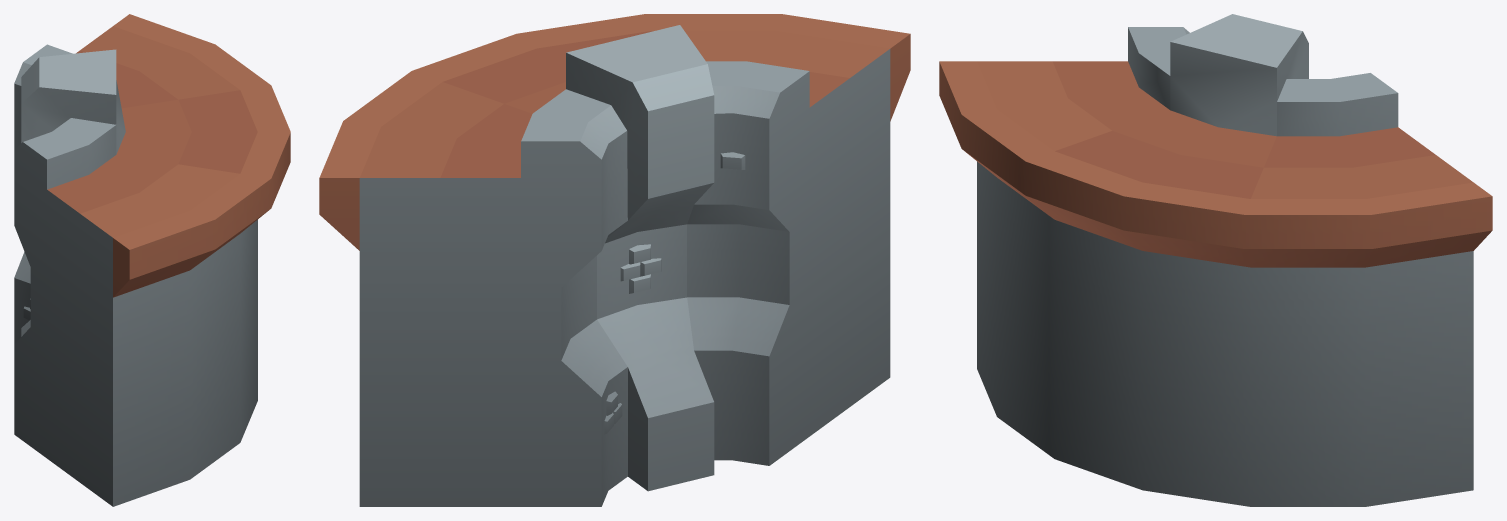
Rendered from wall_corner_B_inside.glb.
3 renders of one model, left to right at view 1: azimuth 30°, elevation 25°; view 2: azimuth 150°, elevation 25°; view 3: azimuth 270°, elevation 25°, orthographic. The views are drawn at different scales.
Visible parts, largest first — view 1: wall_corner_B_inside; view 2: wall_corner_B_inside; view 3: wall_corner_B_inside.
Part boxes in pixels (bbox=[...]): wall_corner_B_inside: bbox=[14, 14, 290, 506]; wall_corner_B_inside: bbox=[319, 14, 910, 506]; wall_corner_B_inside: bbox=[939, 14, 1492, 506].
Bounding box in the file's own units: 0.9625 × 1.1 × 1.47.
Materials: 1 (1 with a texture image).
